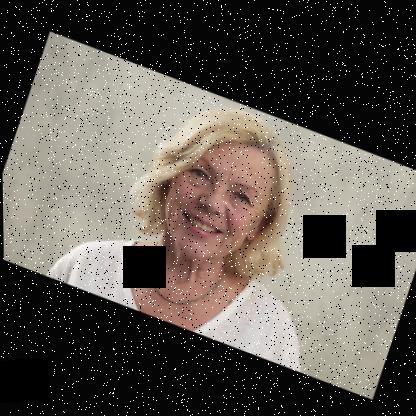Female: (150, 115, 289, 275)
